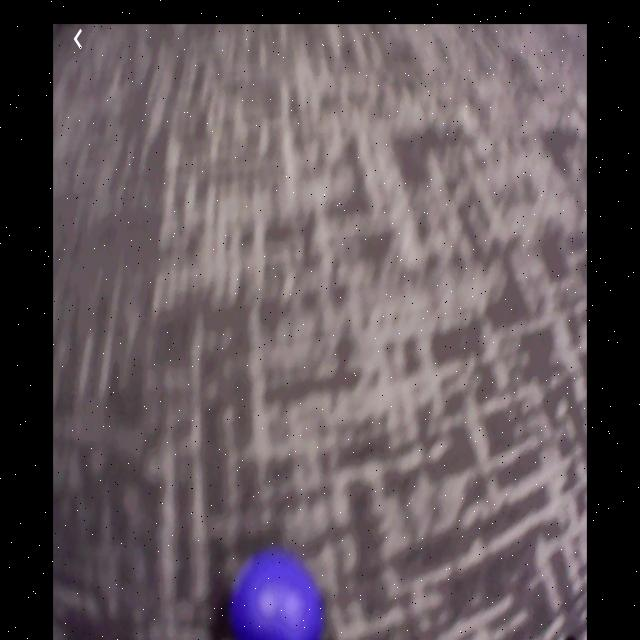ball: (232, 552, 324, 640)
